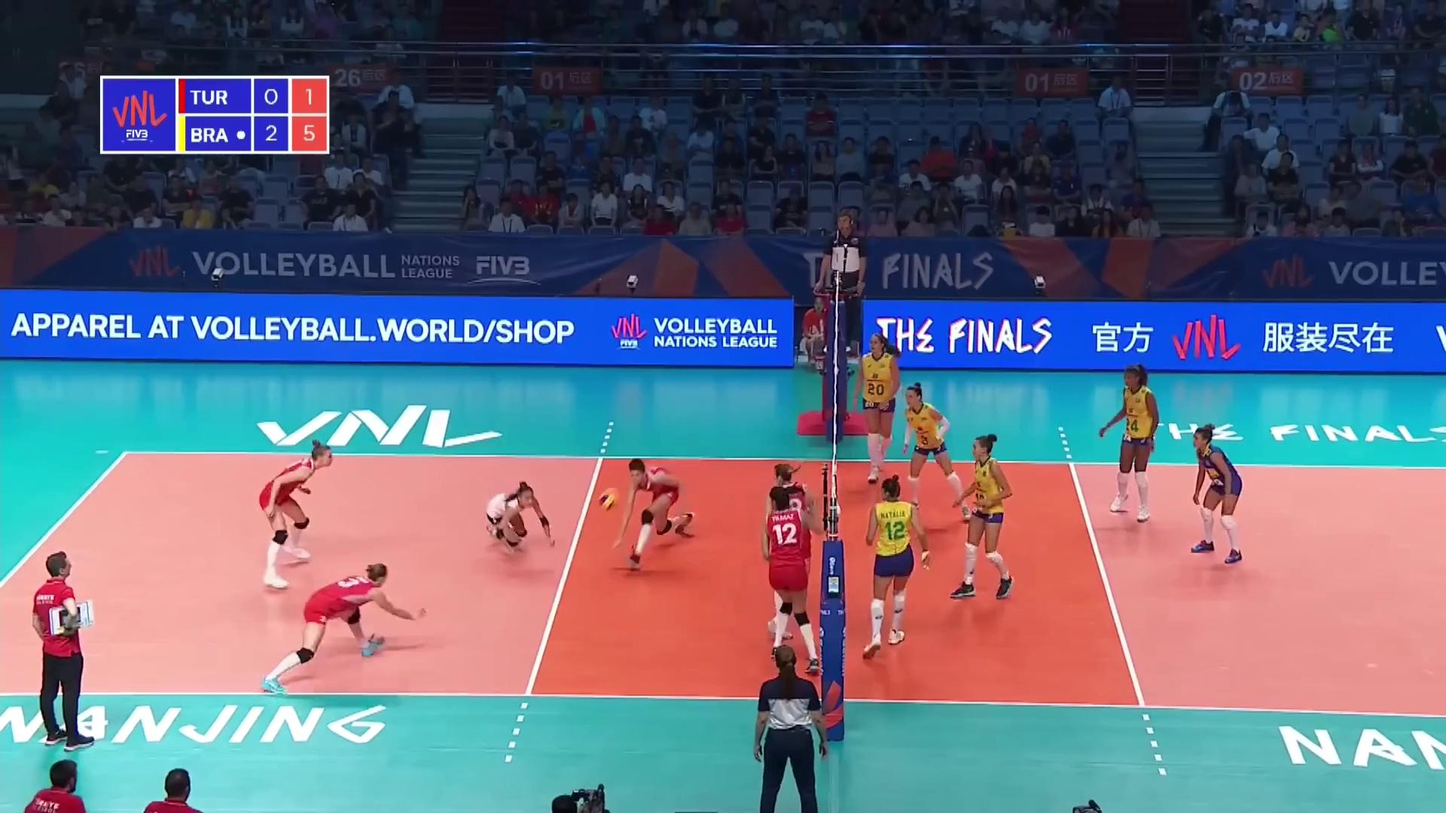player: (259, 568, 420, 689), (260, 434, 336, 575), (956, 431, 1019, 600), (1102, 368, 1167, 522), (615, 458, 698, 572), (867, 482, 921, 649), (764, 462, 812, 639), (893, 383, 964, 494), (765, 491, 809, 661), (1190, 431, 1243, 562), (854, 329, 898, 479), (490, 484, 559, 558)
refree: (756, 639, 830, 812), (824, 214, 865, 356)
